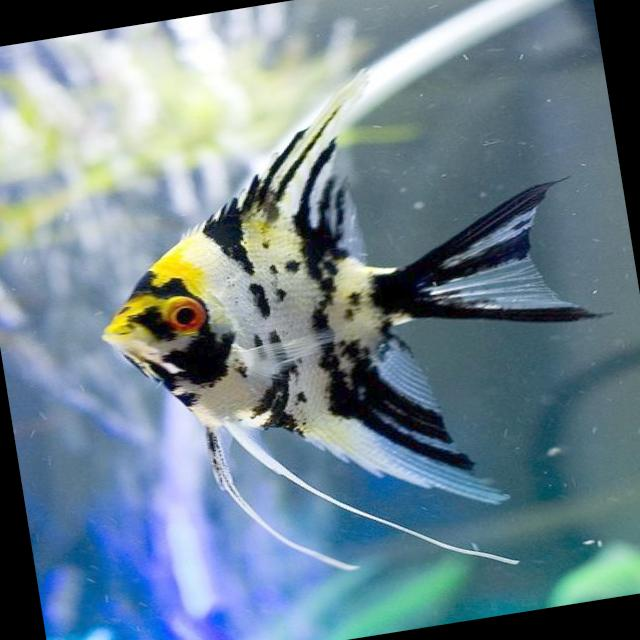AngelFish: (70, 51, 636, 562)
